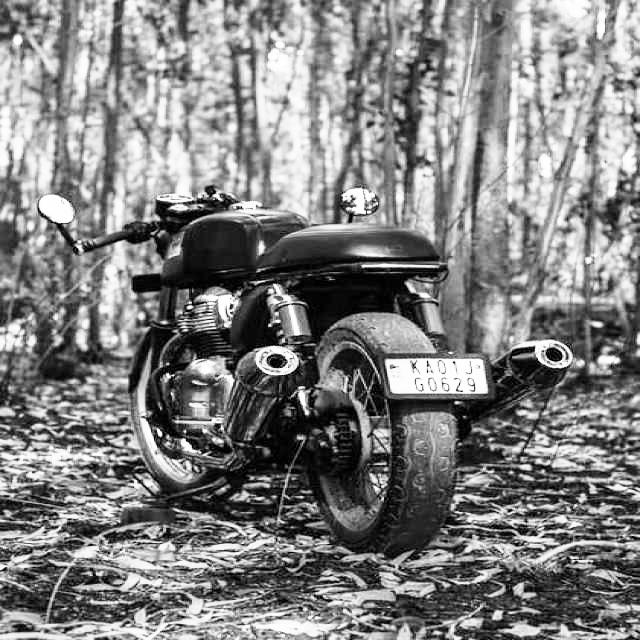Bike: (46, 179, 572, 549)
